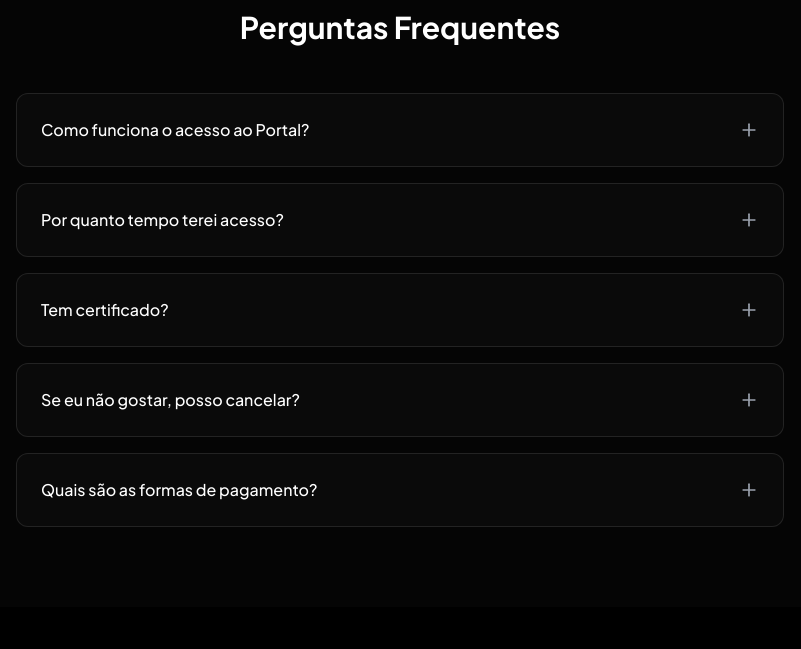
Scenario: FAQSection - Comportamento de toggle › clicar em uma pergunta mostra a resposta
Click the button "Como funciona o acesso ao Portal?". click: point(175, 130)
box: [17,94,783,166]
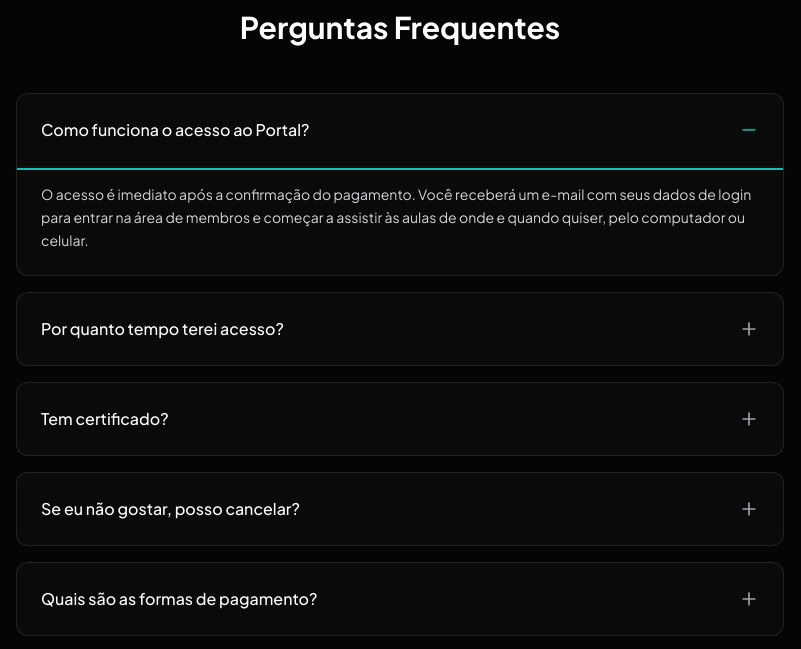
Result: the text "O acesso é imediato após a confirmação" is shown at [41,185,751,248]
